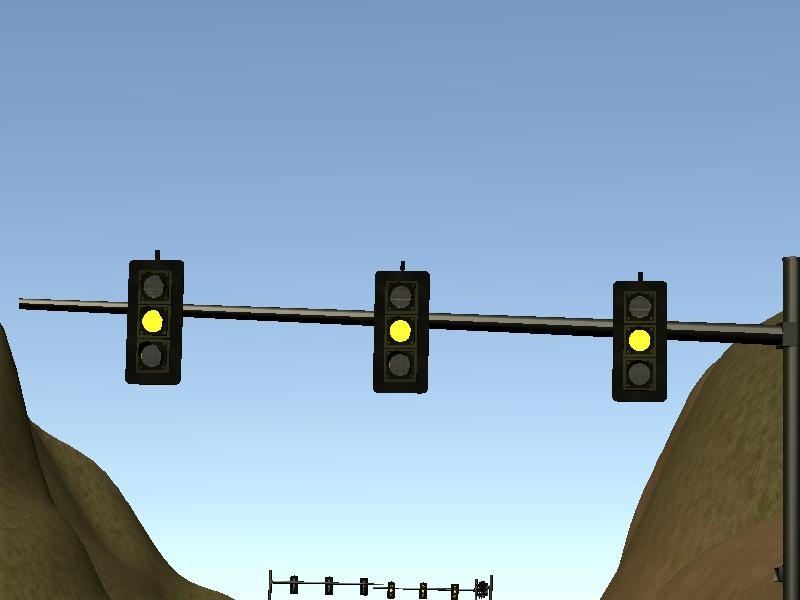YELLOW: (122, 251, 185, 386), (368, 259, 431, 394), (611, 270, 674, 405)
